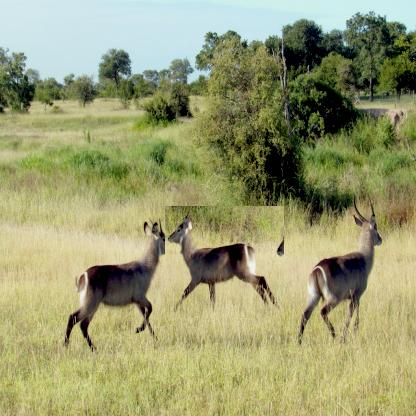Deer: (63, 216, 174, 362), (296, 190, 385, 351), (165, 206, 284, 318)
